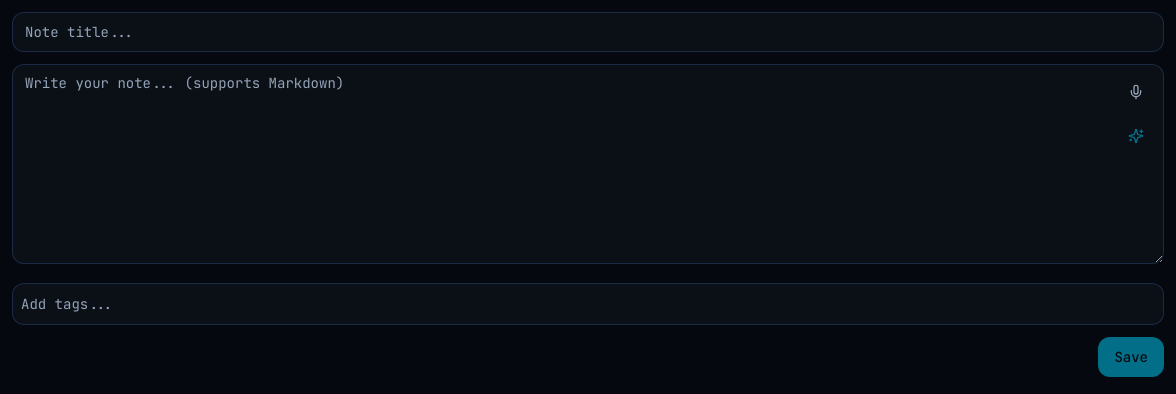
Test case: NoteForm - Tab/Shift-Tab indentation › Tab mid-string restores cursor to selectionStart + 2
Type "helloworld" into the text box with placeholder "Write your note... (supports Markdown)" at (588, 164), box x1=12 y1=64 x2=1164 y2=264
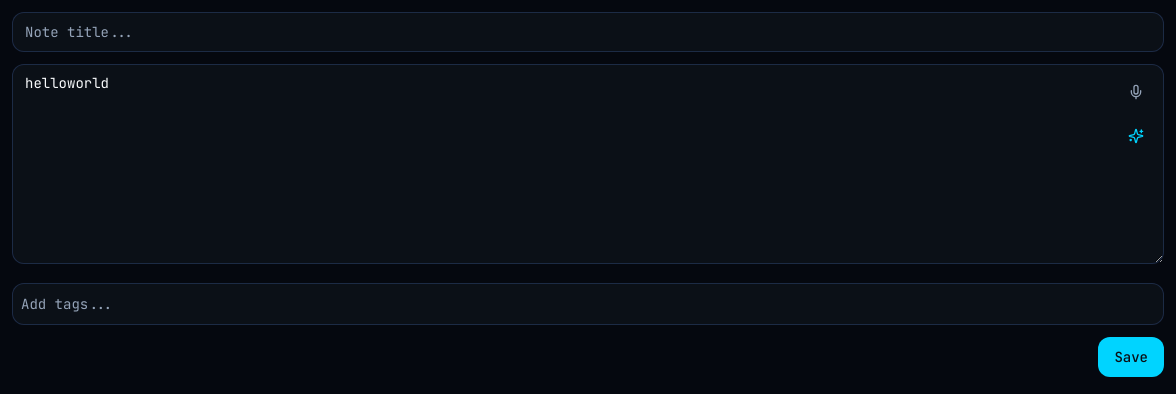
Press Tab in the text box with placeholder "Write your note... (supports Markdown)", box x1=12 y1=64 x2=1164 y2=264
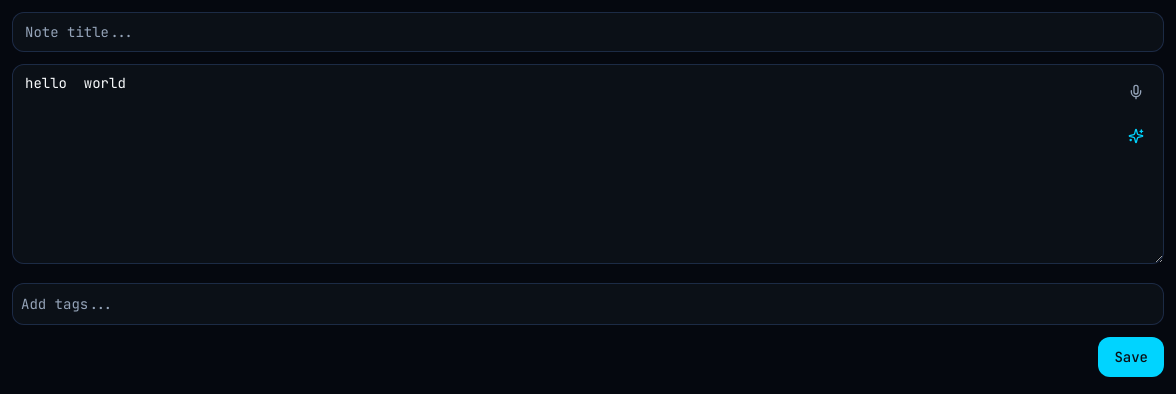
Now the text box with placeholder "Write your note... (supports Markdown)" holds "hello  world", box x1=12 y1=64 x2=1164 y2=264
